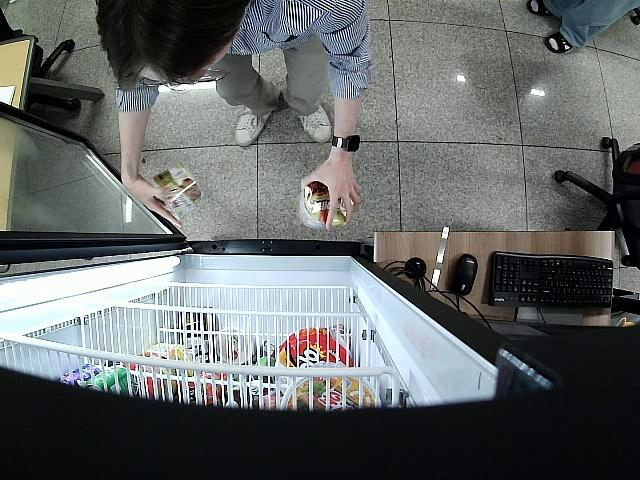00_hand: (117, 168, 182, 231), (300, 163, 360, 229)
03_chapagetti_L: (151, 168, 203, 223), (295, 182, 353, 228)
